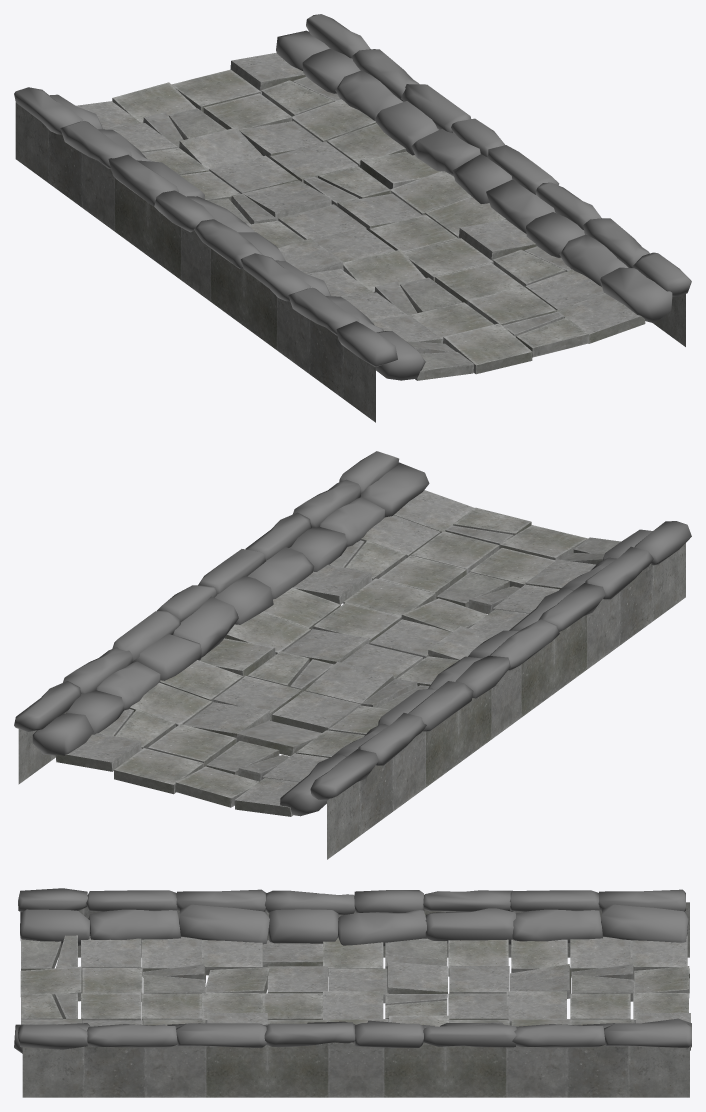
The model's file is SM_path_stone_01.fbx.
3 renders of one model, top to bottom at view 1: azimuth 30°, elevation 25°; view 2: azimuth 150°, elevation 25°; view 3: azimuth 270°, elevation 25°, orthographic. The views are drawn at different scales.
Parts seen in each view (by area): view 1: Path_Stone_01; view 2: Path_Stone_01; view 3: Path_Stone_01.
Part boxes in pixels (x1=…): Path_Stone_01: x1=14, y1=14, x2=691, y2=422; Path_Stone_01: x1=14, y1=451, x2=691, y2=859; Path_Stone_01: x1=14, y1=888, x2=691, y2=1097.
Size of the model in its own units: 203 by 43.89 by 400.
